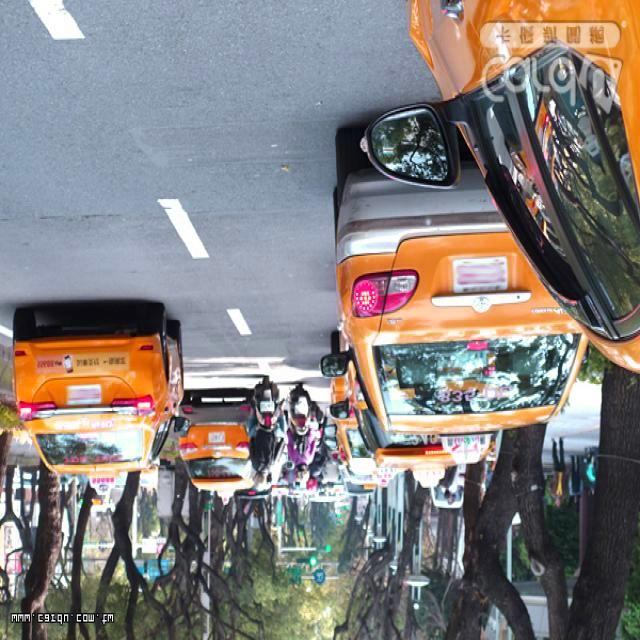taxi: (330, 1, 640, 386), (335, 132, 619, 453), (16, 270, 184, 507), (173, 373, 271, 515)
